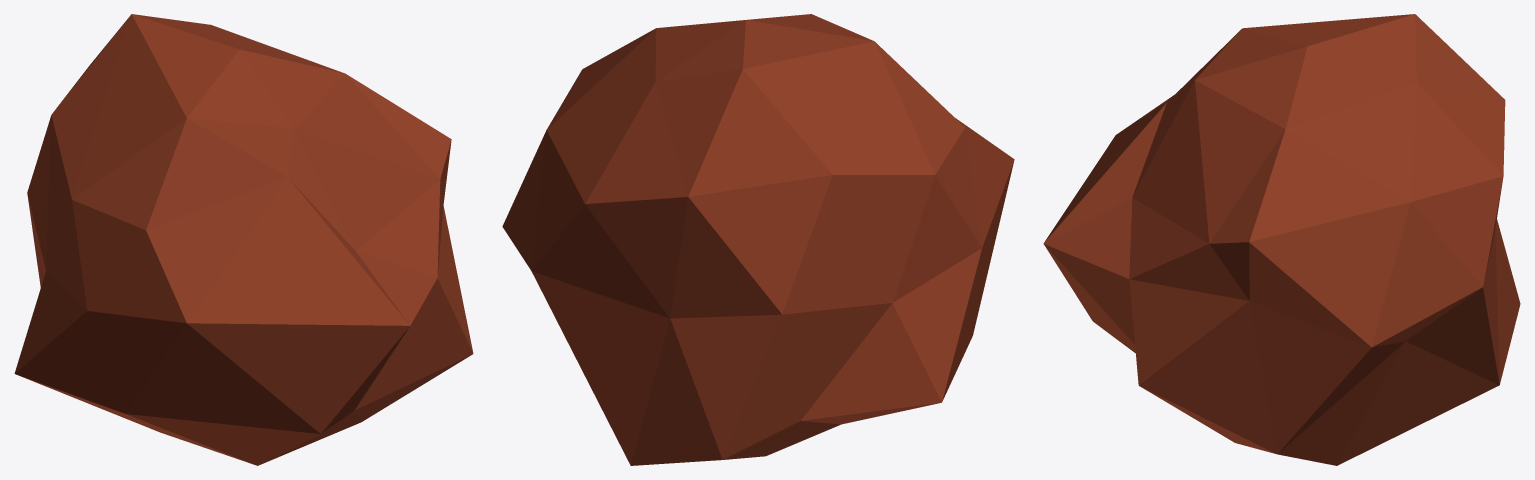
The model's file is Marsstein2.glb.
3 views of the same model, side by side, from view 1: azimuth 30°, elevation 25°; view 2: azimuth 150°, elevation 25°; view 3: azimuth 270°, elevation 25° (orthographic). The views are drawn at different scales.
Visible parts, largest first — view 1: Marsstein2; view 2: Marsstein2; view 3: Marsstein2.
Boxes of the visible parts, x1,y1,x2,y2 form: Marsstein2: [14, 14, 473, 465]; Marsstein2: [502, 14, 1014, 465]; Marsstein2: [1043, 14, 1520, 465].
Bounding box in the file's own units: 0.1979 × 0.1904 × 0.2117.
